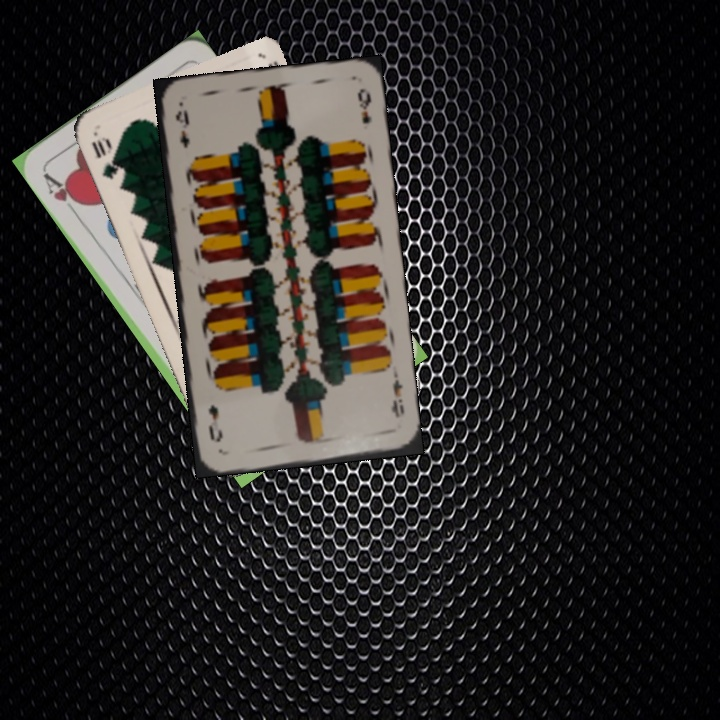E9: (387, 370, 407, 421), (171, 106, 192, 151)
G10: (87, 132, 123, 182)
HA: (38, 168, 85, 218)
